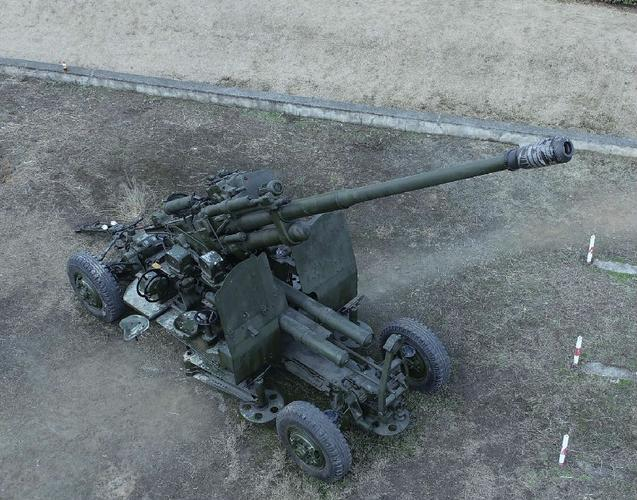MIL_SPG: (67, 138, 574, 480)
